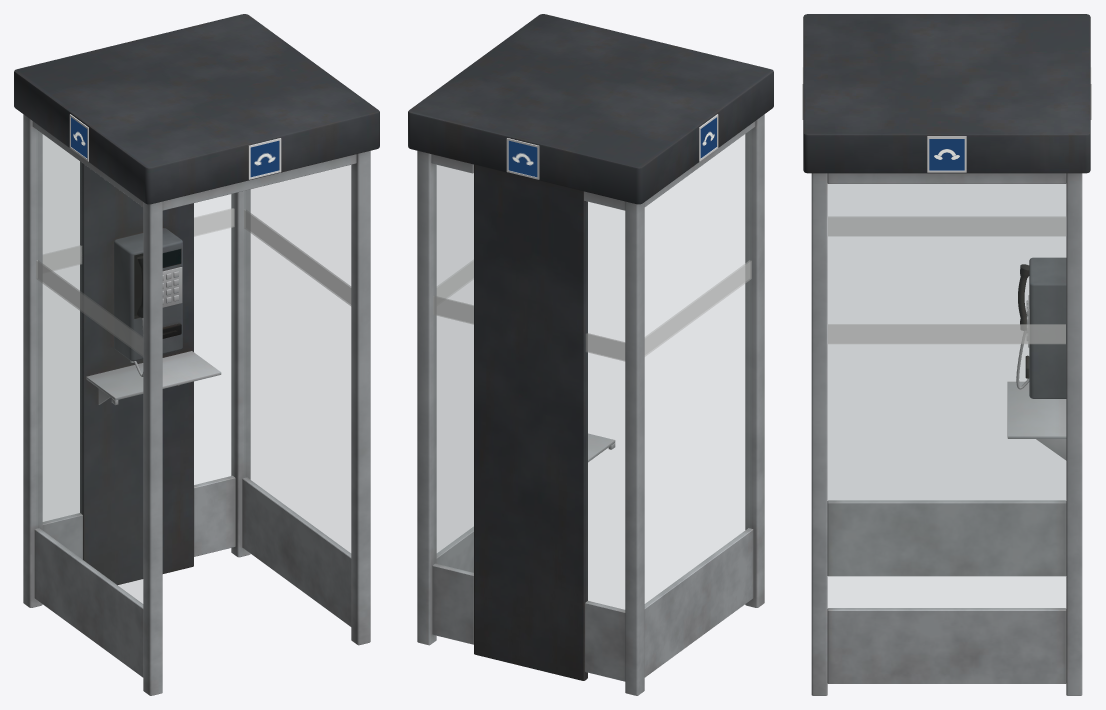
Rendered from g3-phone-booth.glb.
3 renders of one model, left to right at view 1: azimuth 30°, elevation 25°; view 2: azimuth 150°, elevation 25°; view 3: azimuth 270°, elevation 25°, orthographic. The views are drawn at different scales.
Parts seen in each view (by area): view 1: phone-booth_body, phone-booth_left_glass, phone-booth_right_glass, phone-booth_back_left_glass, phone-booth_back_right_glass, phone-booth_sign, phone-booth_sign_frames; view 2: phone-booth_body, phone-booth_left_glass, phone-booth_back_right_glass, phone-booth_back_left_glass, phone-booth_right_glass, phone-booth_sign, phone-booth_sign_frames; view 3: phone-booth_body, phone-booth_right_glass, phone-booth_left_glass, phone-booth_sign, phone-booth_sign_frames.
Boxes of the visible parts, left/top/right/bottom form: phone-booth_body: left=14, top=14, right=379, bottom=695; phone-booth_left_glass: left=36, top=130, right=143, bottom=605; phone-booth_right_glass: left=244, top=165, right=351, bottom=553; phone-booth_back_left_glass: left=42, top=135, right=82, bottom=522; phone-booth_back_right_glass: left=194, top=194, right=234, bottom=485; phone-booth_sign: left=71, top=117, right=279, bottom=177; phone-booth_sign_frames: left=69, top=114, right=281, bottom=179; phone-booth_body: left=408, top=14, right=773, bottom=695; phone-booth_left_glass: left=644, top=130, right=751, bottom=605; phone-booth_back_right_glass: left=433, top=164, right=473, bottom=573; phone-booth_back_left_glass: left=585, top=202, right=625, bottom=610; phone-booth_right_glass: left=436, top=165, right=473, bottom=553; phone-booth_sign: left=508, top=117, right=716, bottom=177; phone-booth_sign_frames: left=506, top=114, right=718, bottom=179; phone-booth_body: left=803, top=14, right=1090, bottom=695; phone-booth_right_glass: left=828, top=184, right=1065, bottom=608; phone-booth_left_glass: left=828, top=184, right=1065, bottom=501; phone-booth_sign: left=929, top=139, right=964, bottom=170; phone-booth_sign_frames: left=802, top=67, right=1091, bottom=172.
Size of the model in its own units: 1.07 by 2.3 by 1.07.
6 materials, 2 textured.
